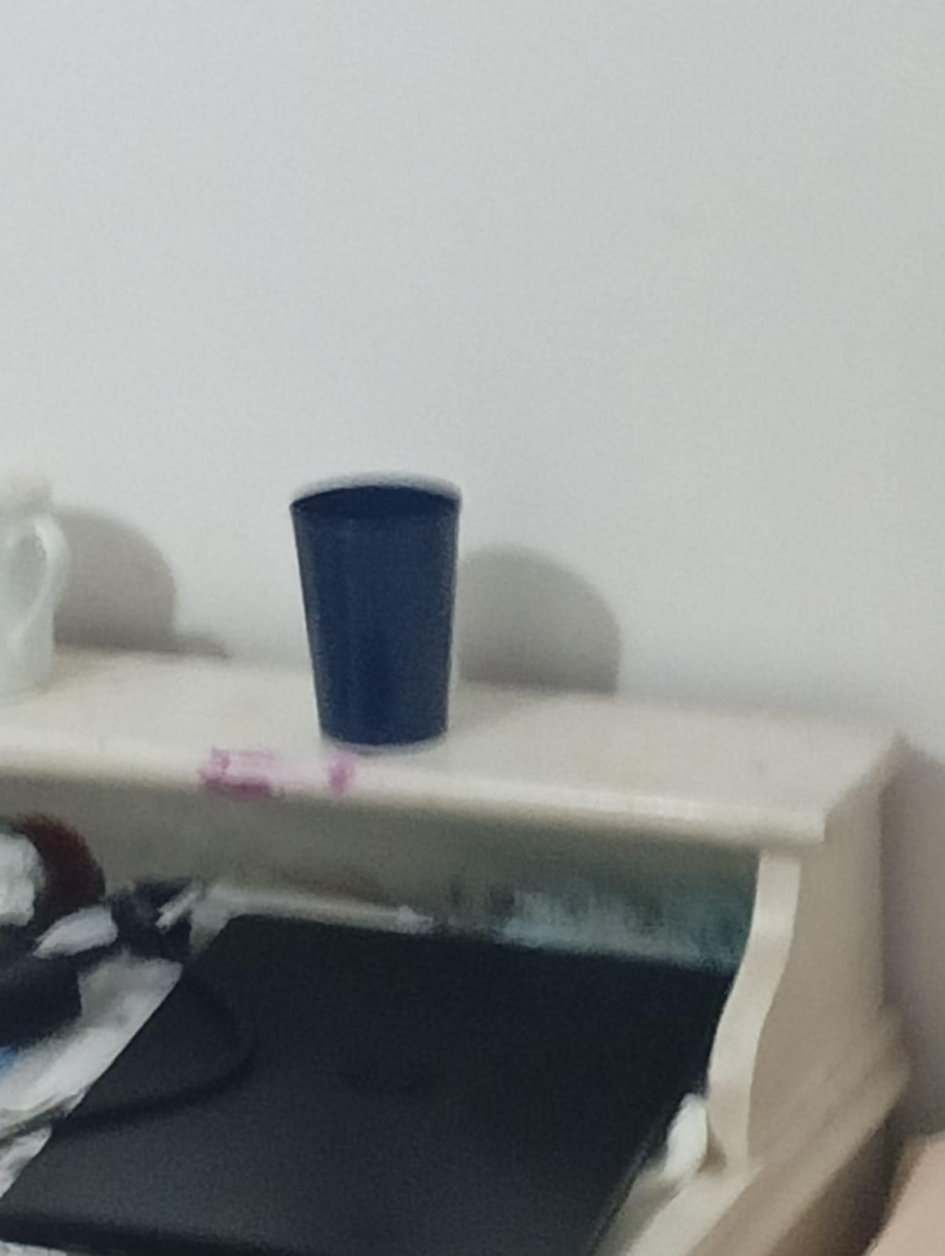cup: (291, 480, 459, 746), (0, 476, 68, 697)
